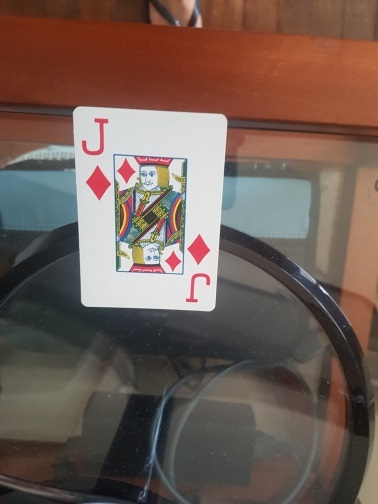jack: (73, 109, 228, 310)
